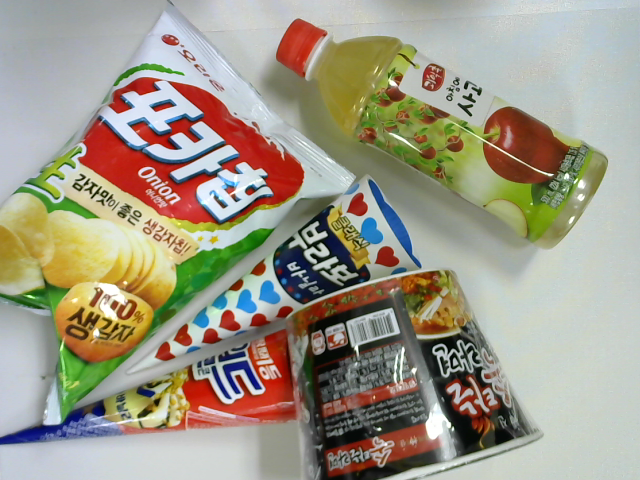Bravo_Cone_(Banila)_CVS: (126, 173, 427, 376)
HeJangsock: (283, 267, 546, 480)
Morning_Apple_500ml: (275, 18, 609, 252)
Pocachip_Onion: (1, 1, 356, 430)
World_Cone_Banila: (1, 330, 302, 448)
